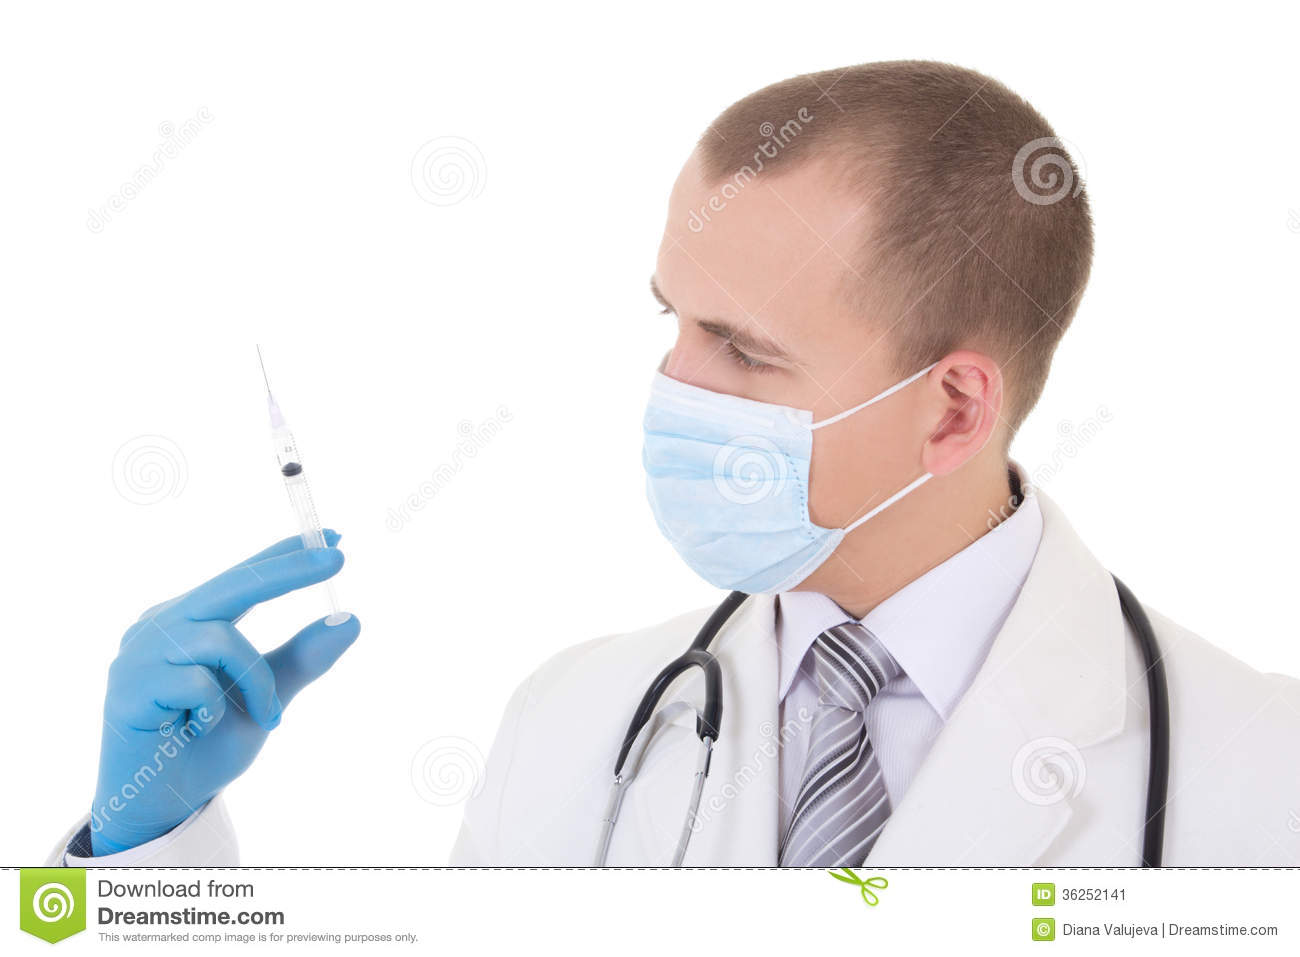mask: (638, 377, 838, 599)
